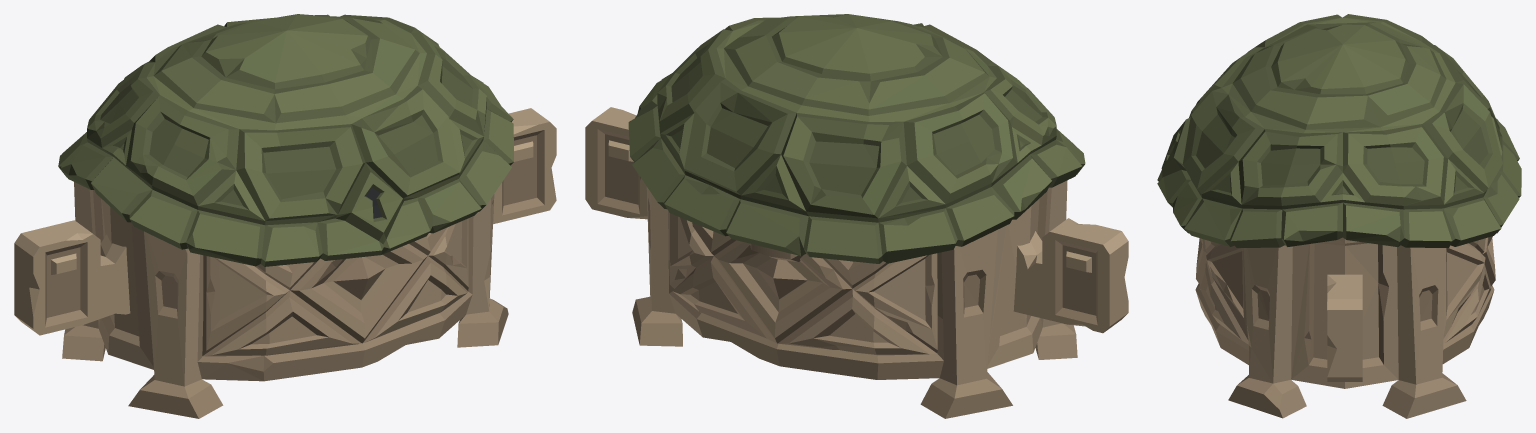
The model's file is SM_Prop_Treasure_Chest_04.fbx.
3 renders of one model, left to right at view 1: azimuth 30°, elevation 25°; view 2: azimuth 150°, elevation 25°; view 3: azimuth 270°, elevation 25°, orthographic. The views are drawn at different scales.
Visible parts, largest first — view 1: SM_Prop_Treasure_Chest_04_Lid, SM_Prop_Treasure_Chest_04; view 2: SM_Prop_Treasure_Chest_04_Lid, SM_Prop_Treasure_Chest_04; view 3: SM_Prop_Treasure_Chest_04_Lid, SM_Prop_Treasure_Chest_04.
Boxes of the visible parts, bbox=[...] form: SM_Prop_Treasure_Chest_04_Lid: bbox=[58, 14, 513, 266]; SM_Prop_Treasure_Chest_04: bbox=[14, 108, 556, 418]; SM_Prop_Treasure_Chest_04_Lid: bbox=[628, 14, 1085, 263]; SM_Prop_Treasure_Chest_04: bbox=[585, 107, 1128, 418]; SM_Prop_Treasure_Chest_04_Lid: bbox=[1157, 14, 1521, 247]; SM_Prop_Treasure_Chest_04: bbox=[1195, 236, 1495, 418].
Size of the model in its own units: 130 by 72.58 by 83.45.
